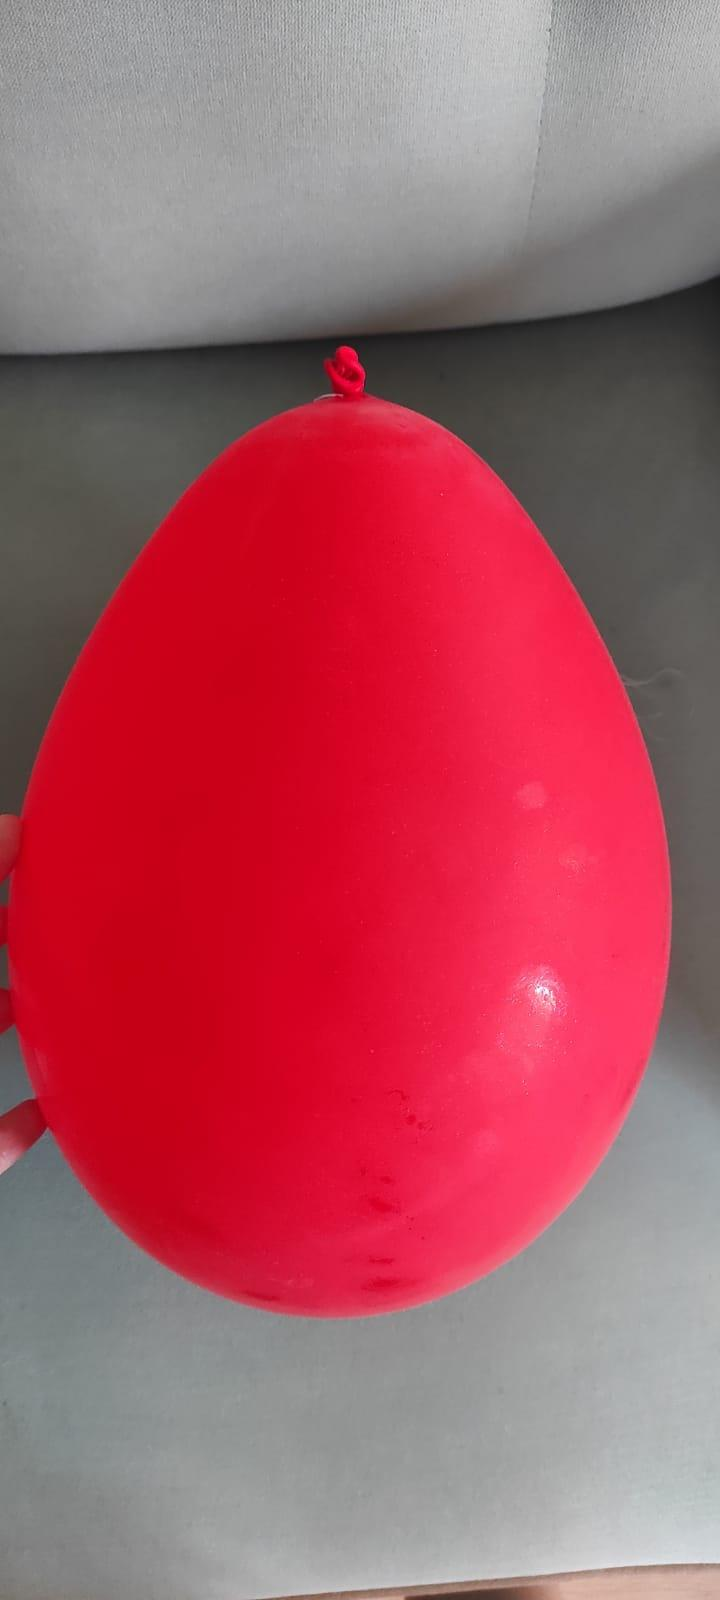red: (11, 337, 679, 1316)
